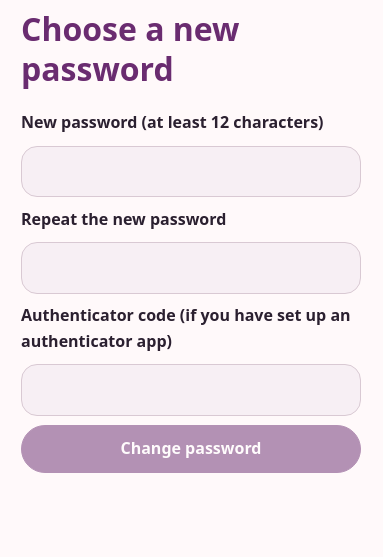
Test case: ResetPassword › does not enable submit for a short or mismatched password
Type "short" into the password field labelled "New password (at least 12 characters)". click: (191, 171)
box: [21,146,361,197]
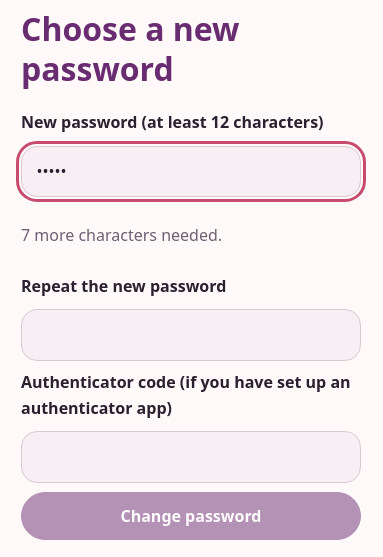
Expected: the text "7 more characters needed." is shown, [21,224,222,246]
Type "a-long-new-passphrase" into the password field labelled "New password (at least 12 characters)". click: (191, 171)
box: [21,146,361,197]
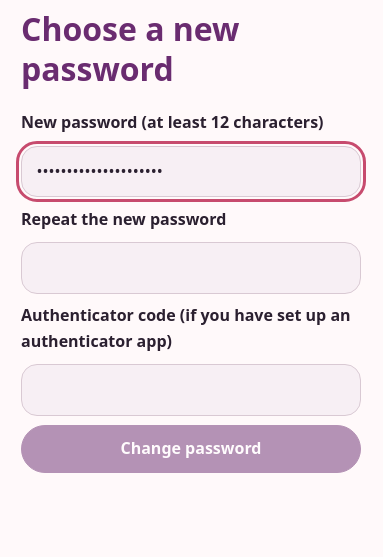
Type "something-different-1" into the password field labelled "Repeat the new password". click: (191, 268)
box: [21,242,361,294]
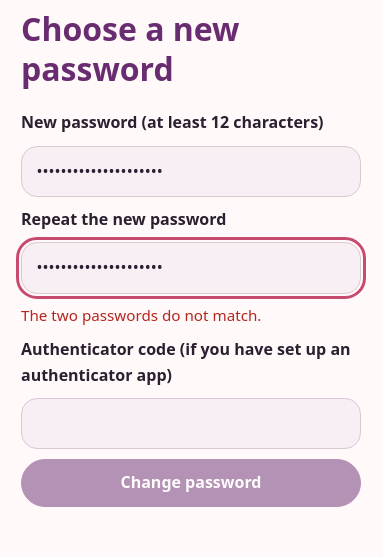
Expected: the button "Change password" is disabled, [21,459,361,507]
Expected: the text "The two passwords do not match." is shown, [21,305,261,325]
